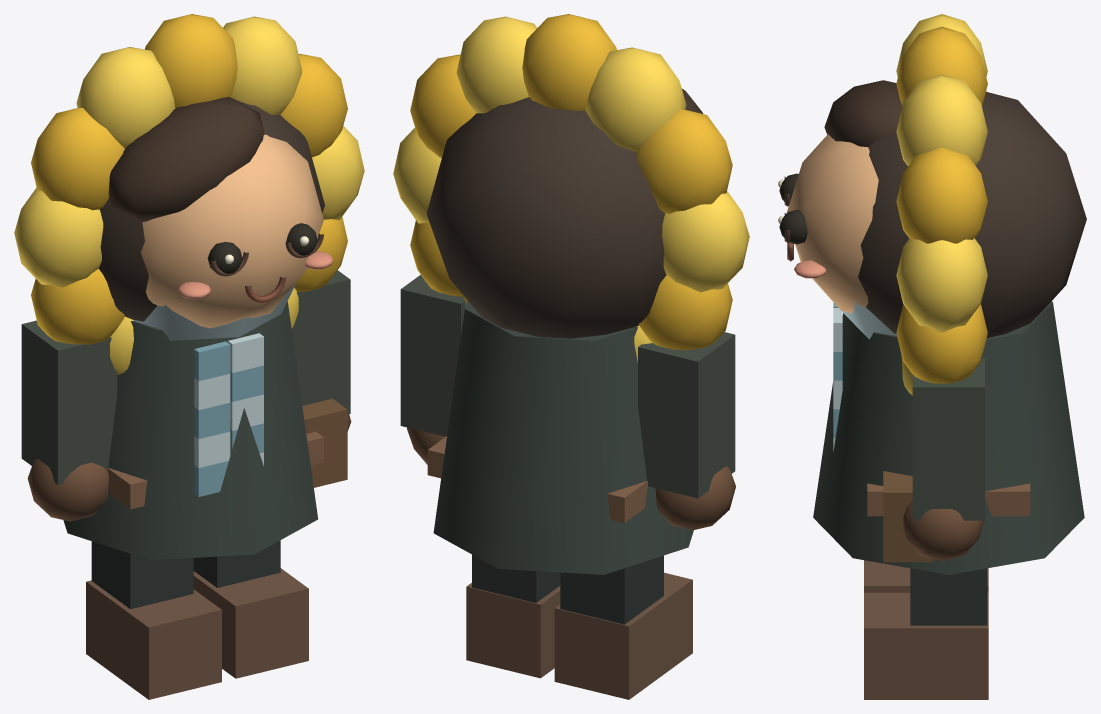
The model's file is hero.glb.
3 renders of one model, left to right at view 1: azimuth 30°, elevation 25°; view 2: azimuth 150°, elevation 25°; view 3: azimuth 270°, elevation 25°, orthographic. The views are drawn at different scales.
Visible parts, largest first — view 1: head, winter-torso-0, winter-sleeves-0 (×2), left-foot, right-foot, winter-trousers-0 (×2), flower-petal-5, flower-petal-4, flower-petal-6, flower-petal-3, flower-petal-2, flower-petal-7 (+17 smaller); view 2: winter-torso-0, head, winter-sleeves-0 (×2), left-foot, winter-trousers-0 (×2), flower-petal-4, flower-petal-5, right-foot, flower-petal-3, flower-petal-6, flower-petal-2, flower-petal-7 (+6 smaller); view 3: head, winter-torso-0, right-foot, winter-sleeves-0, flower-petal-1, flower-petal-0, flower-petal-2, flower-petal-11, winter-trousers-0, flower-petal-3, right-hand, winter-torso-3 (+5 smaller).
Boxes of the visible parts, box(x1,y1,x2,y2) form: head: box(98, 97, 333, 328); winter-torso-0: box(63, 301, 317, 560); winter-sleeves-0 (×2): box(21, 270, 350, 485); left-foot: box(86, 580, 221, 699); right-foot: box(193, 568, 308, 678); winter-trousers-0 (×2): box(91, 540, 280, 609); flower-petal-5: box(31, 108, 124, 210); flower-petal-4: box(76, 47, 175, 148); flower-petal-6: box(14, 188, 103, 287); flower-petal-3: box(144, 14, 237, 108); flower-petal-2: box(223, 16, 302, 114); flower-petal-7: box(31, 269, 124, 344); winter-torso-0: box(433, 300, 693, 574); head: box(426, 88, 703, 338); winter-sleeves-0 (×2): box(400, 274, 735, 498); left-foot: box(554, 572, 692, 699); winter-trousers-0 (×2): box(472, 554, 663, 624); flower-petal-4: box(585, 47, 686, 152); flower-petal-5: box(636, 109, 732, 213); right-foot: box(466, 583, 560, 678); flower-petal-3: box(522, 14, 616, 110); flower-petal-6: box(662, 191, 749, 292); flower-petal-2: box(456, 16, 536, 113); flower-petal-7: box(638, 275, 732, 350); head: box(786, 80, 1086, 337); winter-torso-0: box(813, 301, 1084, 574); right-foot: box(864, 592, 988, 699); winter-sleeves-0: box(912, 358, 984, 520); flower-petal-1: box(896, 147, 987, 243); flower-petal-0: box(896, 238, 987, 332); flower-petal-2: box(896, 74, 987, 165); flower-petal-11: box(896, 304, 987, 383); winter-trousers-0: box(910, 568, 987, 625); flower-petal-3: box(896, 26, 987, 106); right-hand: box(903, 500, 984, 561); winter-torso-3: box(883, 471, 932, 562).
Bounding box in the file's own units: 1.72 × 3.08 × 1.37.
